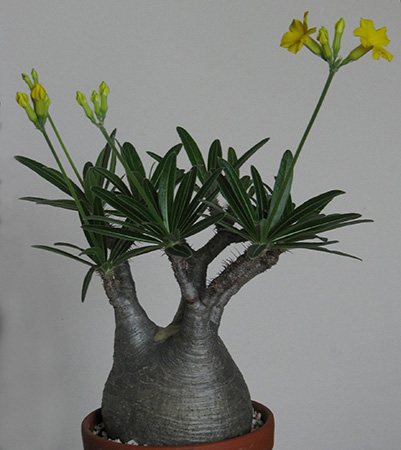Pachypodium rosulatum: (27, 76, 381, 440)
